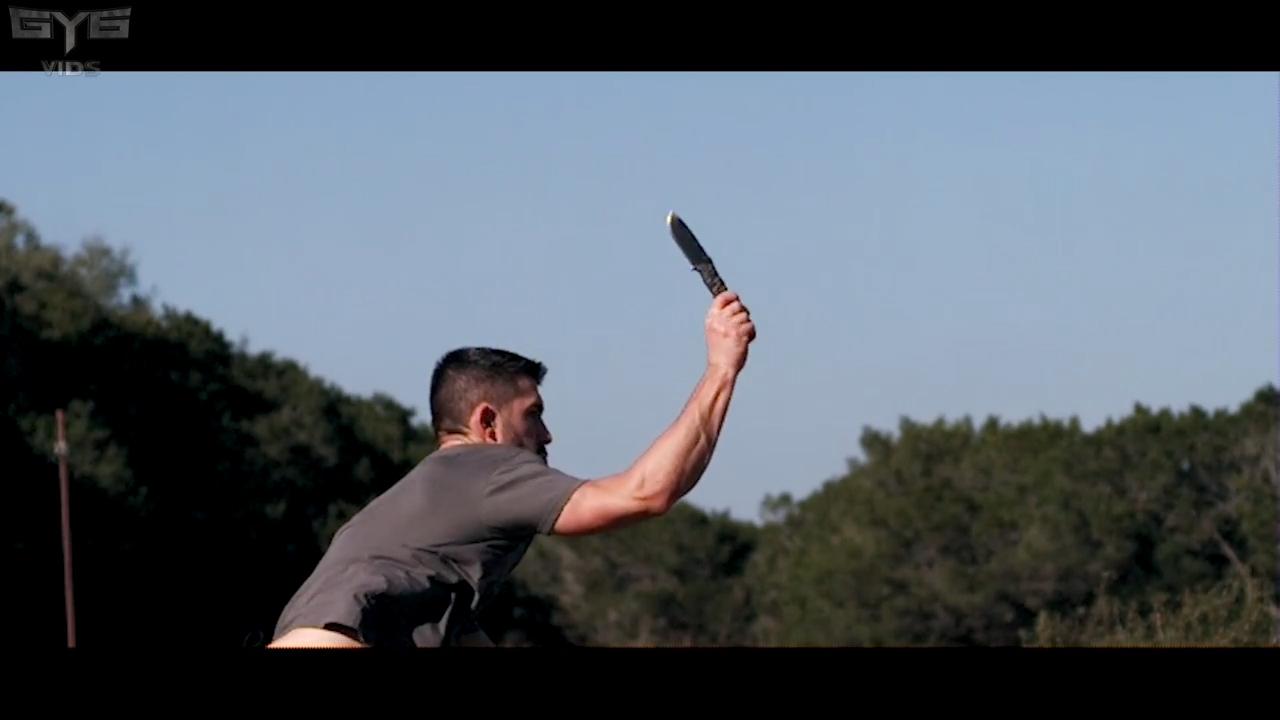knife: (657, 200, 765, 353)
